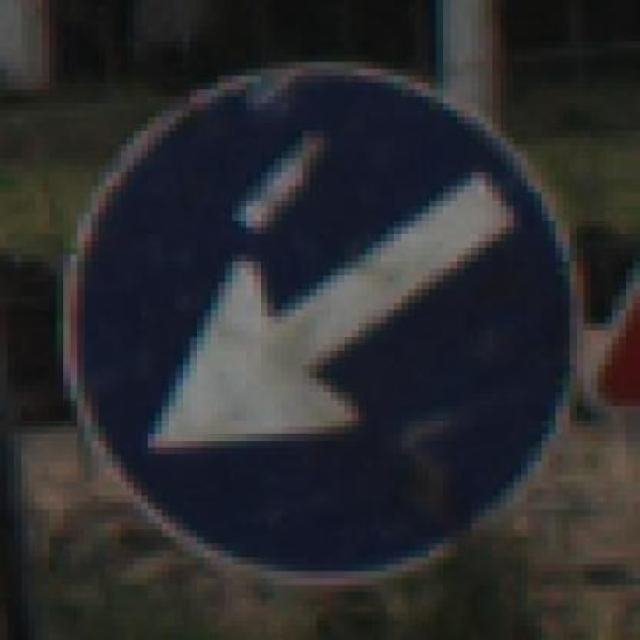Keep-Left: (42, 41, 606, 605)
